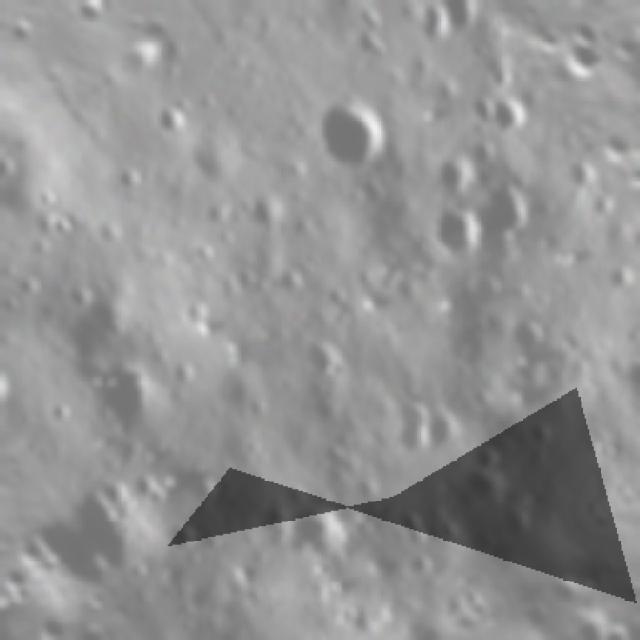crater: (294, 73, 408, 189), (73, 346, 176, 452), (456, 162, 552, 258), (409, 188, 500, 277), (432, 255, 522, 342), (276, 477, 362, 566), (366, 380, 446, 466), (420, 134, 488, 200), (495, 300, 557, 363), (394, 0, 460, 57), (482, 81, 543, 142), (233, 178, 293, 240), (394, 591, 464, 640), (151, 512, 204, 562), (143, 92, 194, 143), (607, 339, 640, 416), (53, 261, 104, 310), (36, 200, 84, 249), (426, 0, 489, 37), (192, 518, 236, 562), (108, 158, 146, 196), (0, 348, 20, 412), (0, 149, 26, 197)
